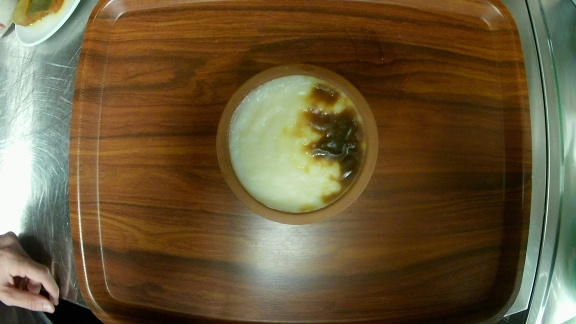sutlac: (215, 63, 380, 224)
